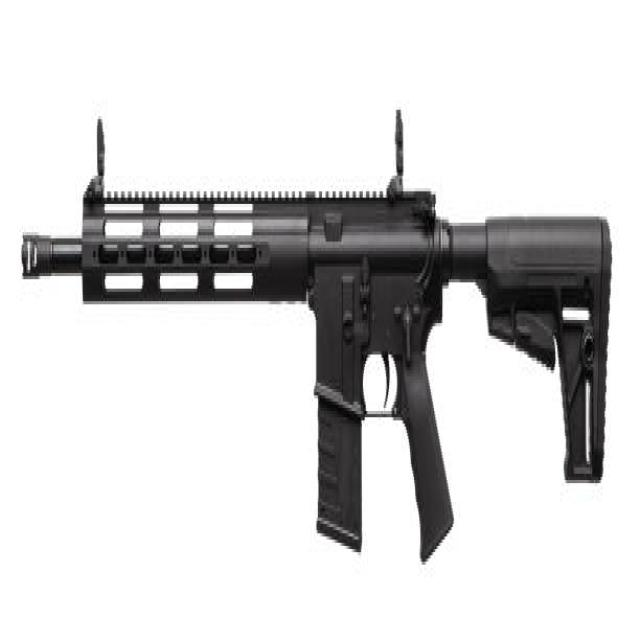rifle: (16, 100, 617, 602)
